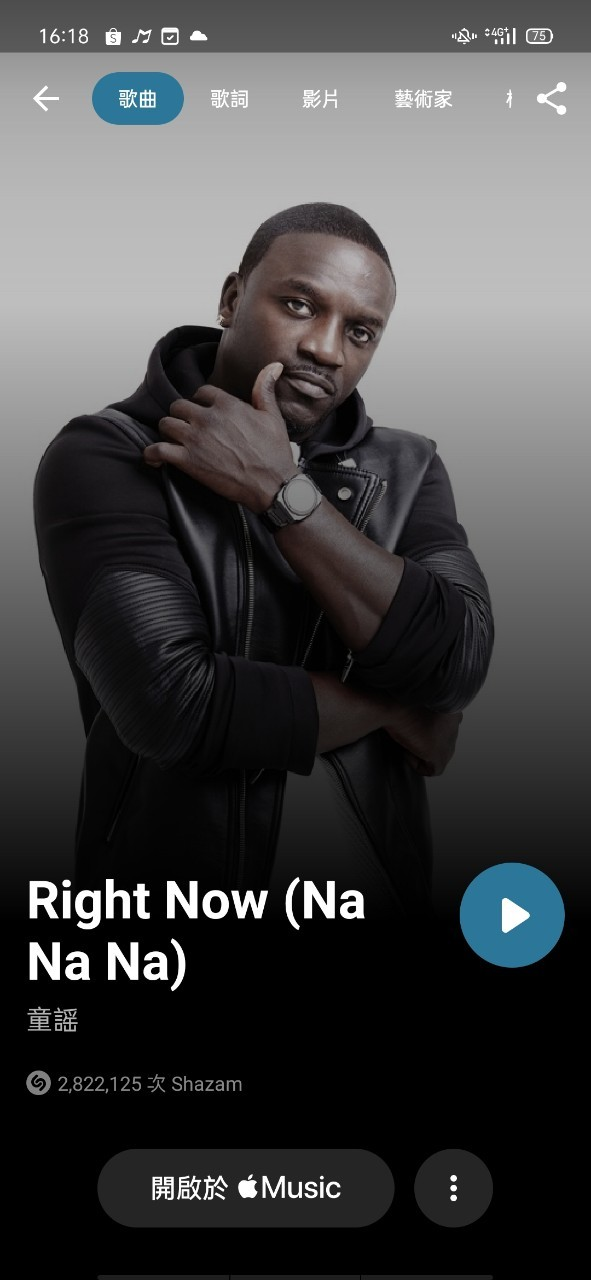people: (93, 208, 442, 865)
